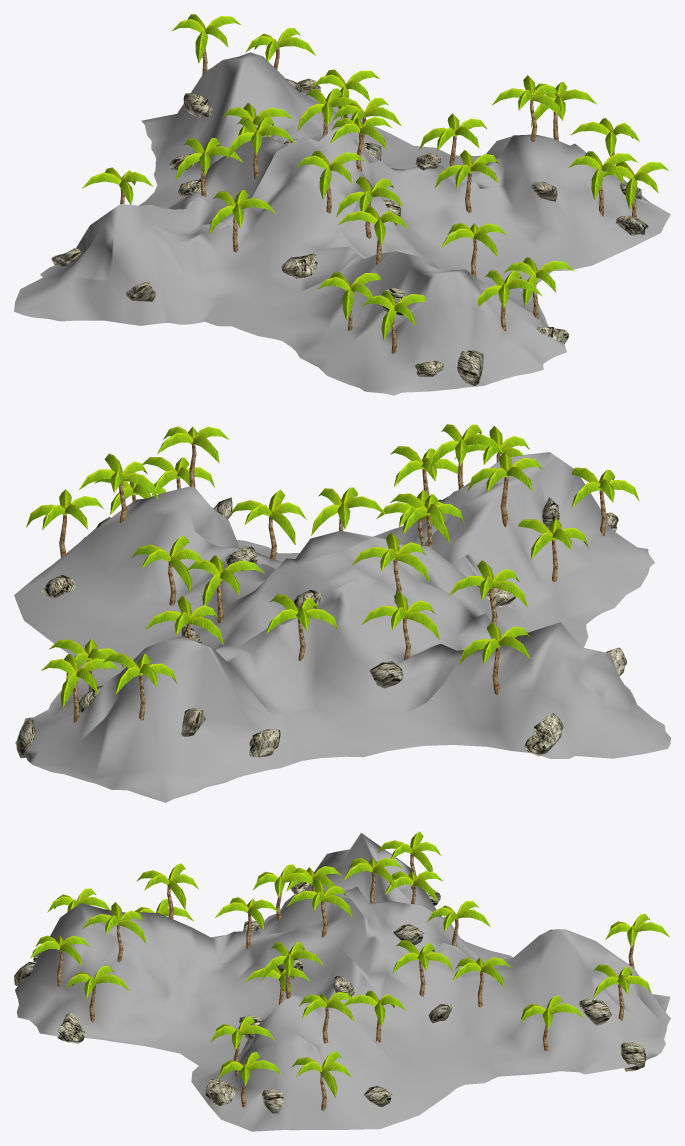
File: island_11.fbx
3 renders of one model, top to bottom at view 1: azimuth 30°, elevation 25°; view 2: azimuth 150°, elevation 25°; view 3: azimuth 270°, elevation 25°, orthographic. The views are drawn at different scales.
Parts seen in each view (by area): view 1: island_11; view 2: island_11; view 3: island_11.
Boxes of the visible parts, box(x1,y1,x2,y2) form: island_11: box(14, 14, 670, 395); island_11: box(14, 424, 670, 802); island_11: box(14, 831, 670, 1131).
Size of the model in its own units: 70.7 by 17.19 by 73.05.
